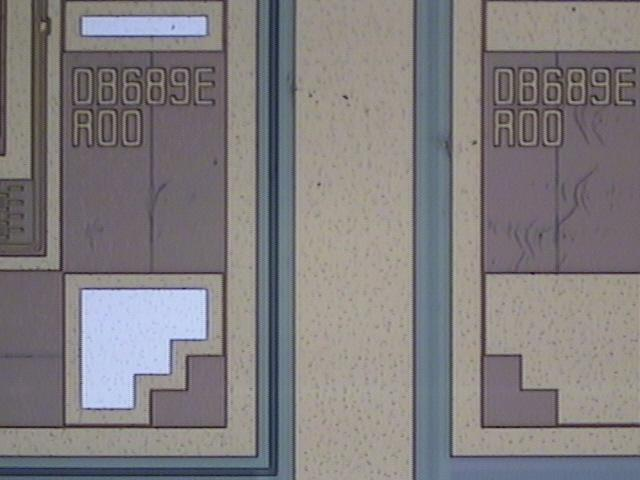SCRATCH: (81, 78, 623, 281)
